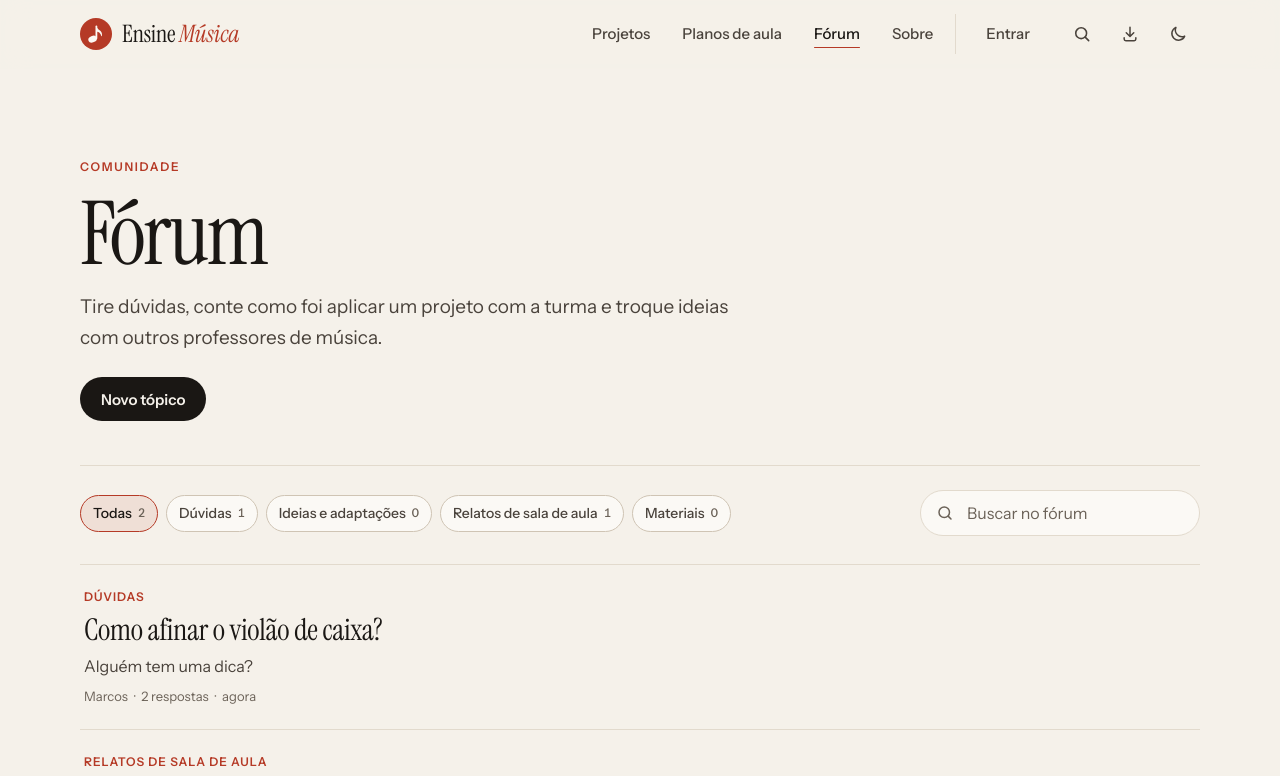
Test: página de privacidade: link no rodapé e lembrete nos formulários do público
The width and height of the screenshot is (1280, 776).
Check: the heading "Como afinar o violão de caixa?" is shown, box [84,610,383,649]
Click the button "Novo tópico": (143, 399) [80,377,206,421]
(page scrolled)
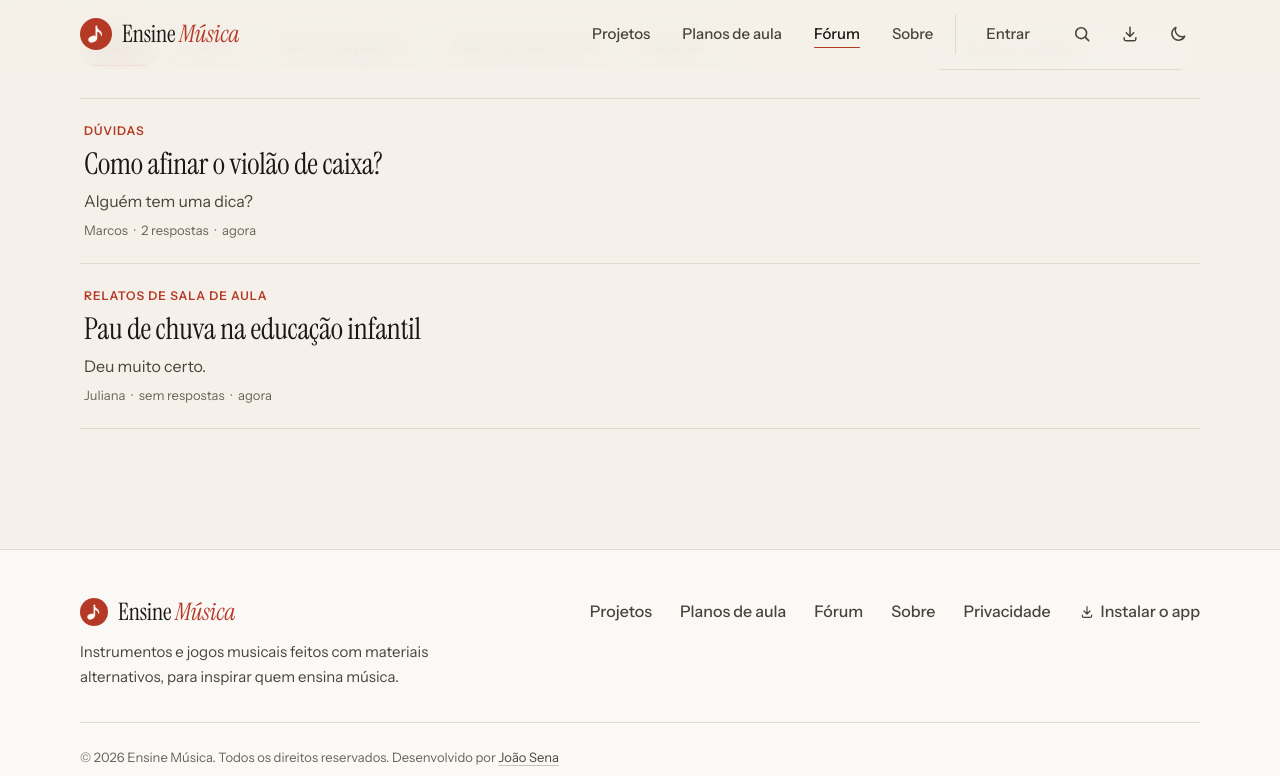
Click the link "Privacidade": (1007, 612) [963,598,1051,625]
(page scrolled)
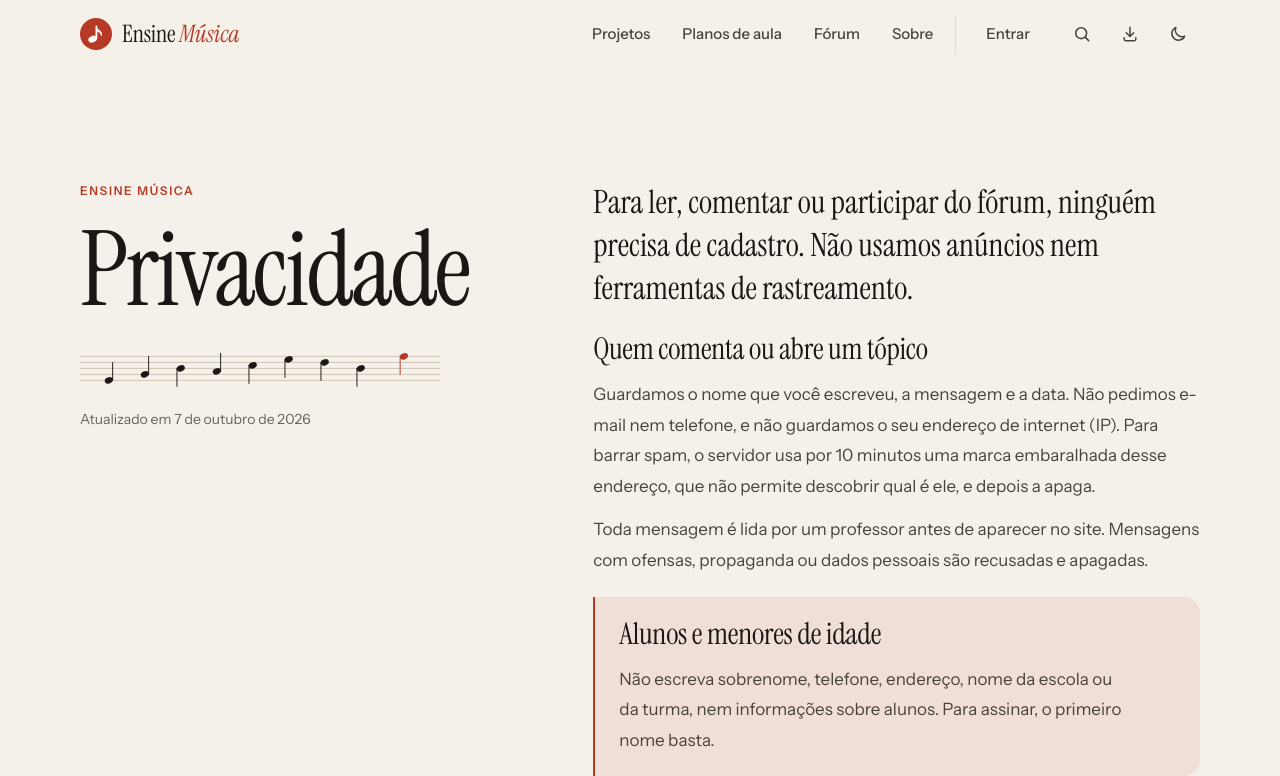
Check: the heading "Privacidade" is shown, box [80,221,513,320]
Check: the heading "Alunos e menores de idade" is shown, box [619,614,881,653]
